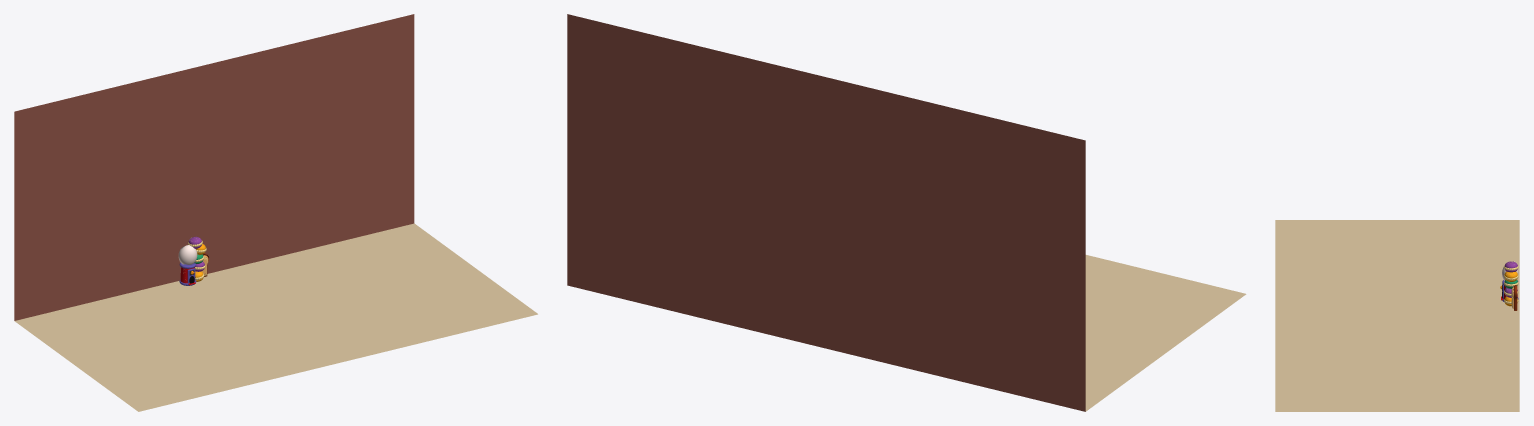
Rendered from changjing.obj.
3 renders of one model, left to right at view 1: azimuth 30°, elevation 25°; view 2: azimuth 150°, elevation 25°; view 3: azimuth 270°, elevation 25°, orthographic. The views are drawn at different scales.
Visible parts, largest first — view 1: 粉色背景墙, 棋盘地面; view 2: 粉色背景墙, 棋盘地面; view 3: 棋盘地面.
Part boxes in pixels (x1=…): 粉色背景墙: x1=14, y1=14, x2=414, y2=320; 棋盘地面: x1=14, y1=223, x2=537, y2=411; 粉色背景墙: x1=567, y1=14, x2=1085, y2=411; 棋盘地面: x1=1085, y1=255, x2=1246, y2=411; 棋盘地面: x1=1275, y1=220, x2=1519, y2=411.
Bounding box in the file's own units: 80 × 40.02 × 43.03.
